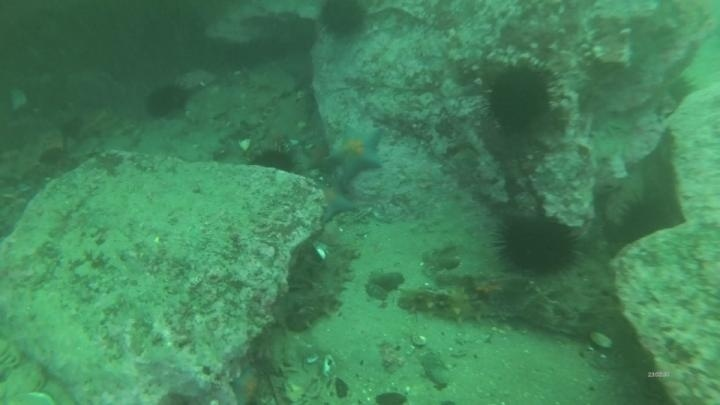echinus: (492, 211, 581, 279), (482, 60, 558, 135), (611, 194, 679, 252), (317, 1, 370, 41), (143, 81, 191, 121), (251, 145, 299, 176)
holothurian: (280, 243, 359, 334), (394, 283, 495, 326)
starfish: (326, 124, 386, 182), (316, 183, 358, 224), (228, 365, 268, 405)
